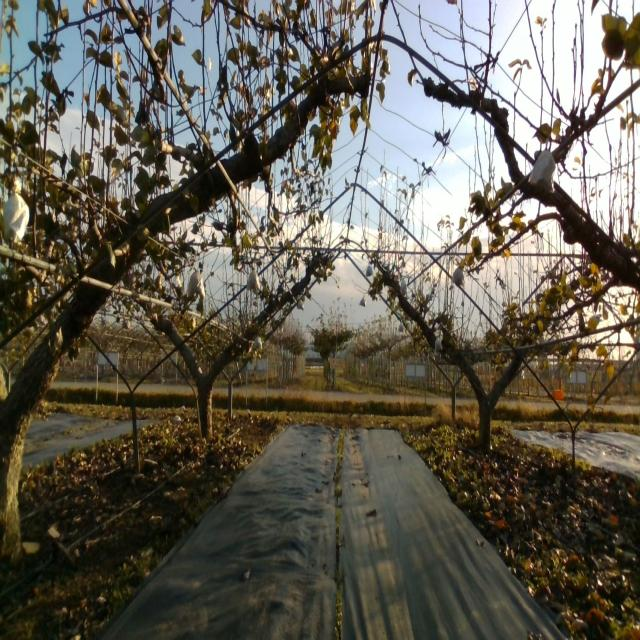pearbags: (2, 180, 31, 244), (527, 137, 556, 196), (187, 269, 205, 302), (247, 266, 260, 291), (451, 266, 465, 286)
